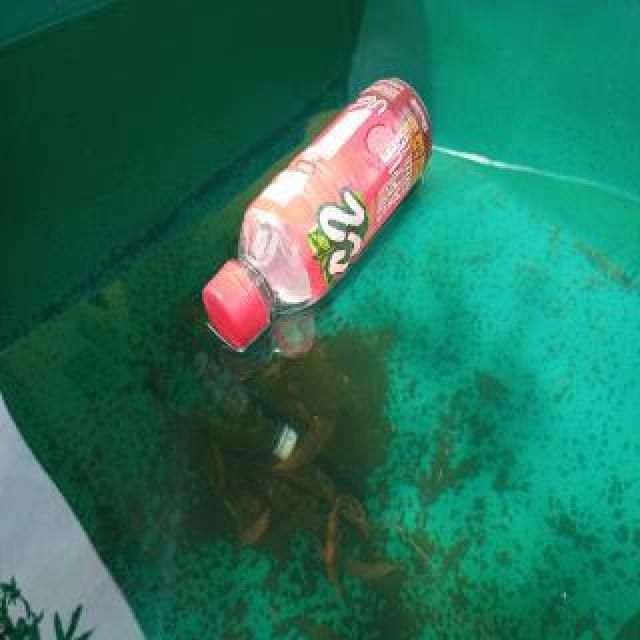bottle: (203, 71, 433, 353)
